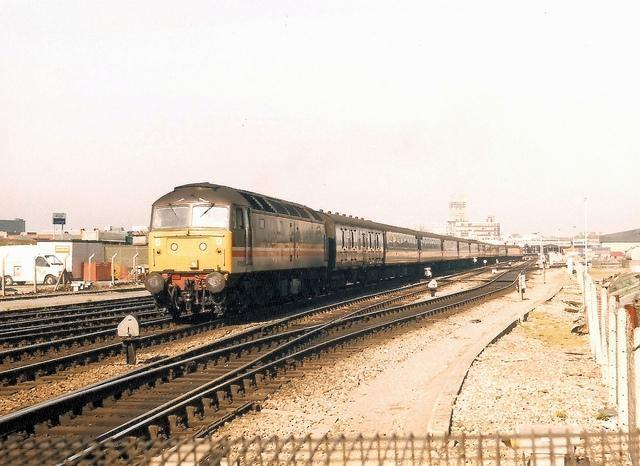truck: (2, 251, 68, 288)
